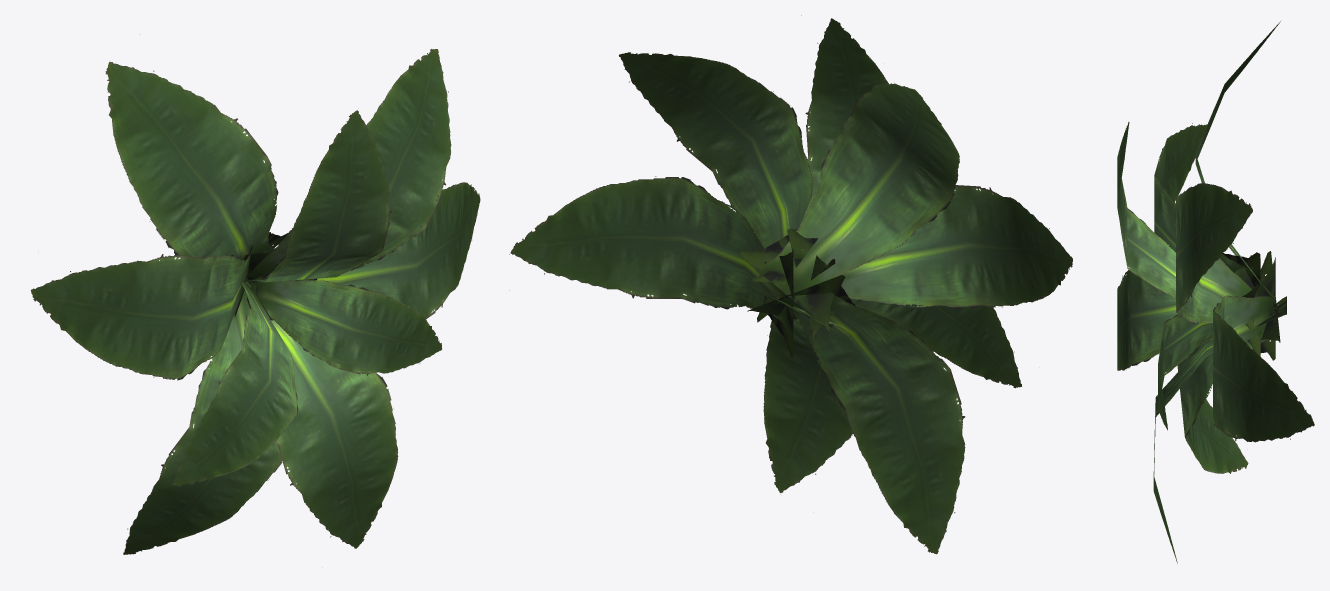
Rendered from Bush_01.obj.
The picture shows the model from 3 angles, left to right: view 1: azimuth 30°, elevation 25°; view 2: azimuth 150°, elevation 25°; view 3: azimuth 270°, elevation 25°; orthographic projection. The views are drawn at different scales.
Parts seen in each view (by area): view 1: plant_pmat2; view 2: plant_pmat2; view 3: plant_pmat2.
Boxes of the visible parts, box(x1,y1,x2,y2) form: plant_pmat2: box(31, 49, 480, 554); plant_pmat2: box(509, 15, 1072, 554); plant_pmat2: box(1117, 21, 1314, 563).
Bounding box in the file's own units: 2.05 × 2.03 × 0.7235.
